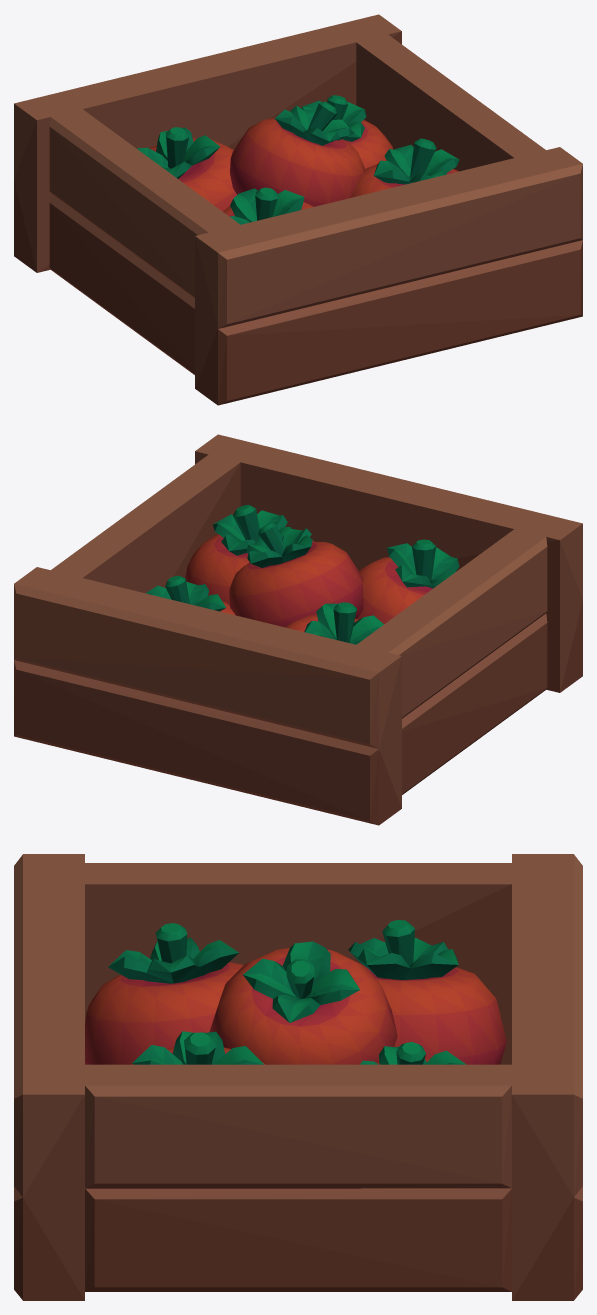
File: kk_restaurant_crate_tomatoes.glb
3 views of the same model, one above another, from view 1: azimuth 30°, elevation 25°; view 2: azimuth 150°, elevation 25°; view 3: azimuth 270°, elevation 25° (orthographic). The views are drawn at different scales.
Parts seen in each view (by area): view 1: kk_restaurant_crate_tomatoes; view 2: kk_restaurant_crate_tomatoes; view 3: kk_restaurant_crate_tomatoes.
Boxes of the visible parts, bbox=[...] form: kk_restaurant_crate_tomatoes: bbox=[14, 14, 582, 405]; kk_restaurant_crate_tomatoes: bbox=[14, 434, 582, 825]; kk_restaurant_crate_tomatoes: bbox=[14, 854, 582, 1300].
Bounding box in the file's own units: 2 × 0.9233 × 2.
